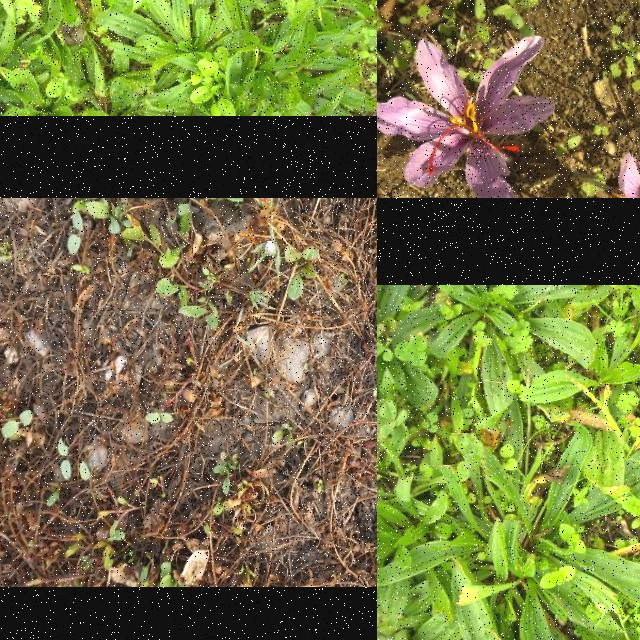flower: (377, 36, 556, 198)
